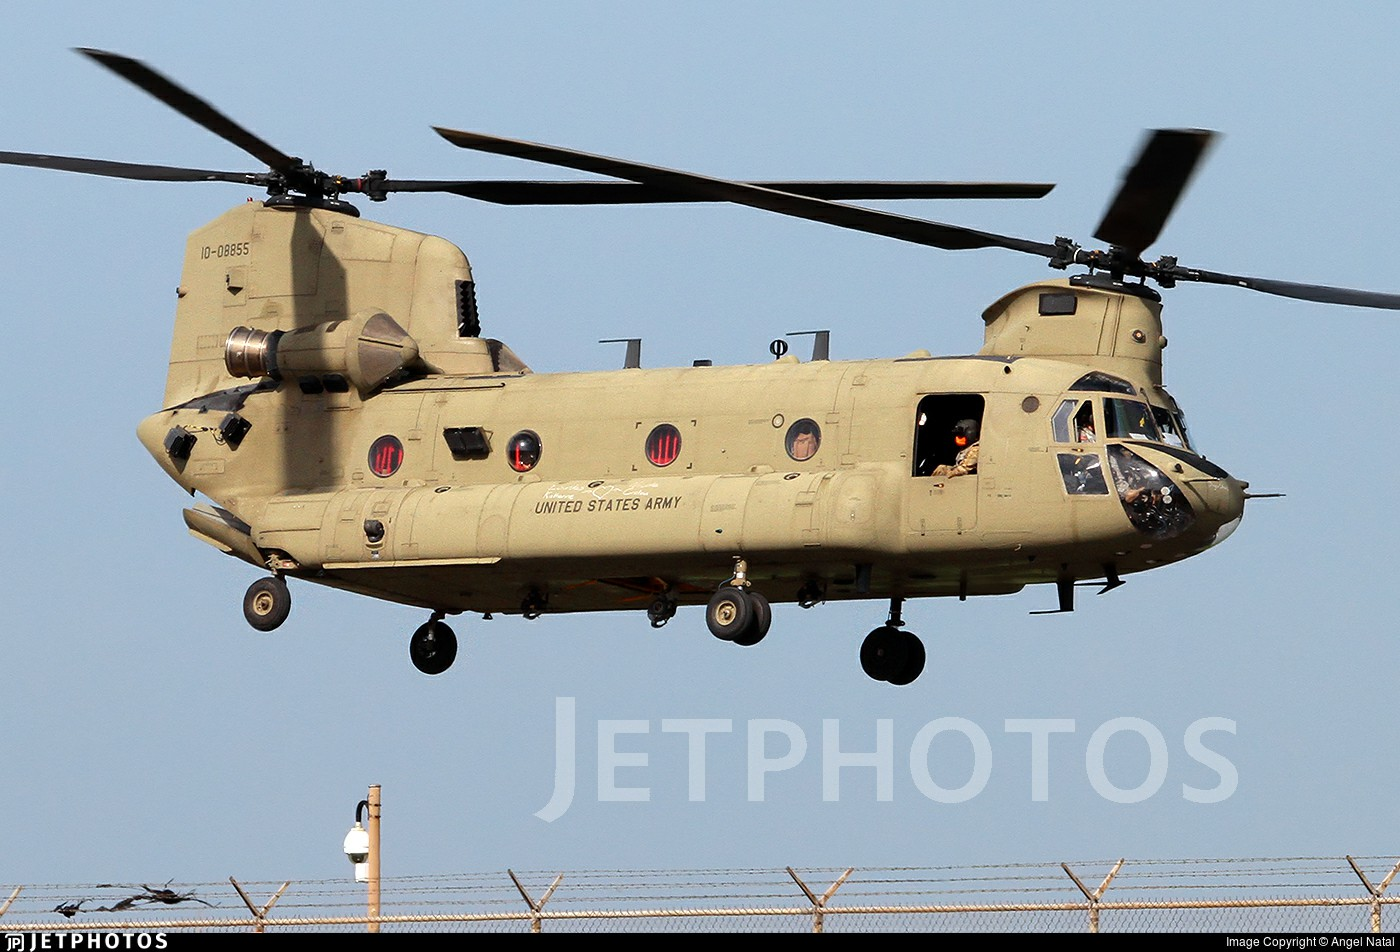chinook: (70, 59, 1350, 685)
